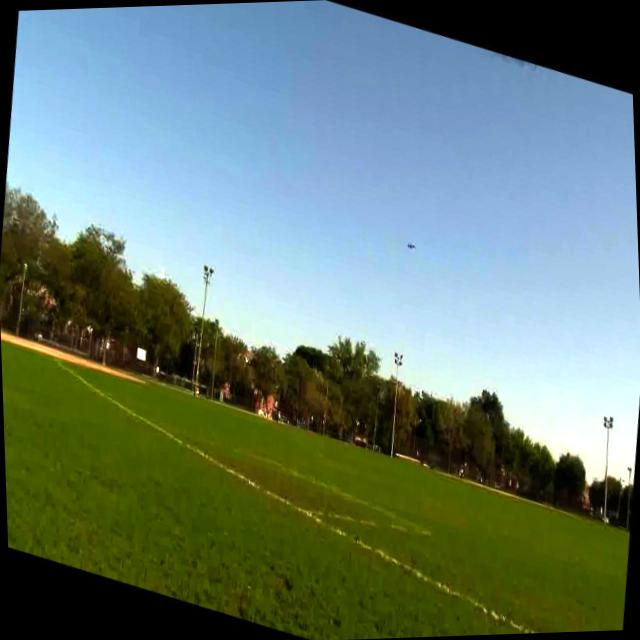drone: (402, 233, 419, 260)
